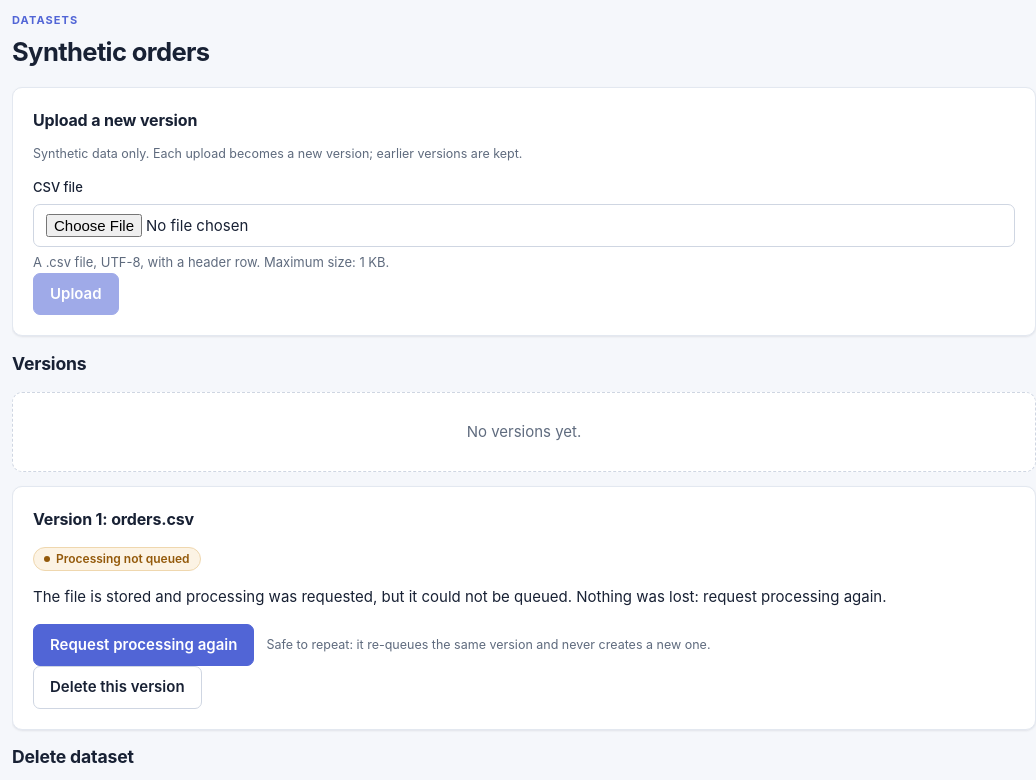
Test: Version panel › offers safe recovery for a stored file that was not queued, and re-polls
Expected: the text with test id "version-state" reads "Processing not queued", [56,551,190,566]
Expected: the message with test id "version-status" shows "Nothing was lost", [33,587,886,606]
What coordinates should you click on to do the following:
click the button "Request processing again"
I would click on:
 (144, 645)
Its box is [33,624,254,666].
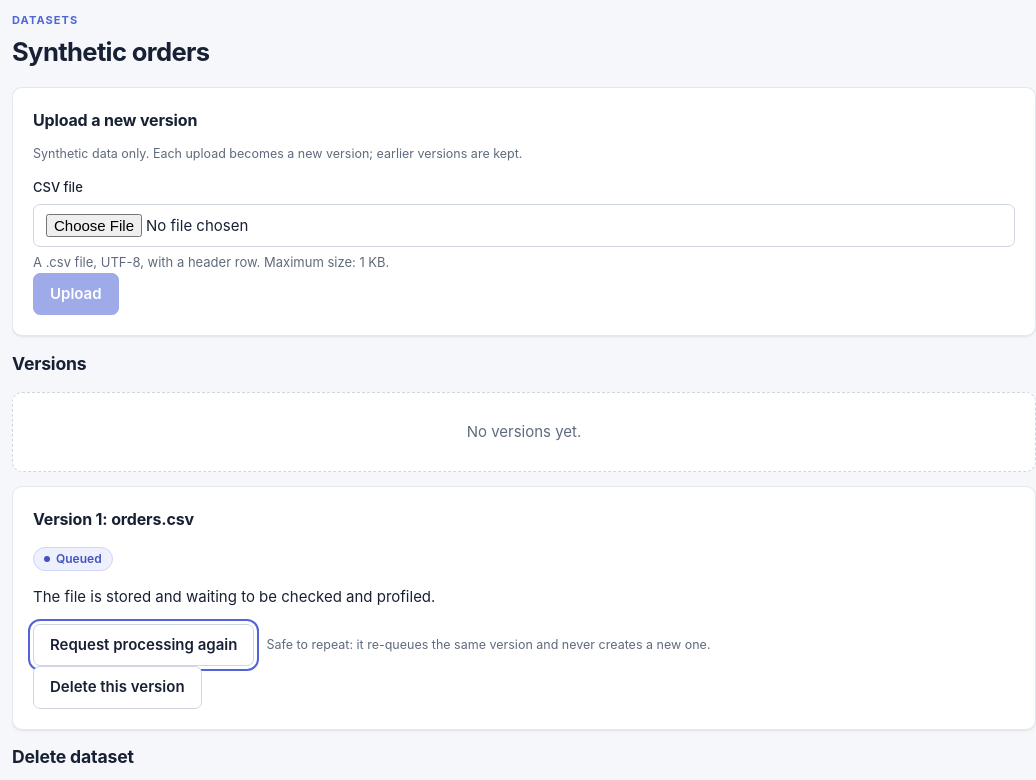
Expected: the text with test id "version-state" reads "Queued", [56,551,102,566]
